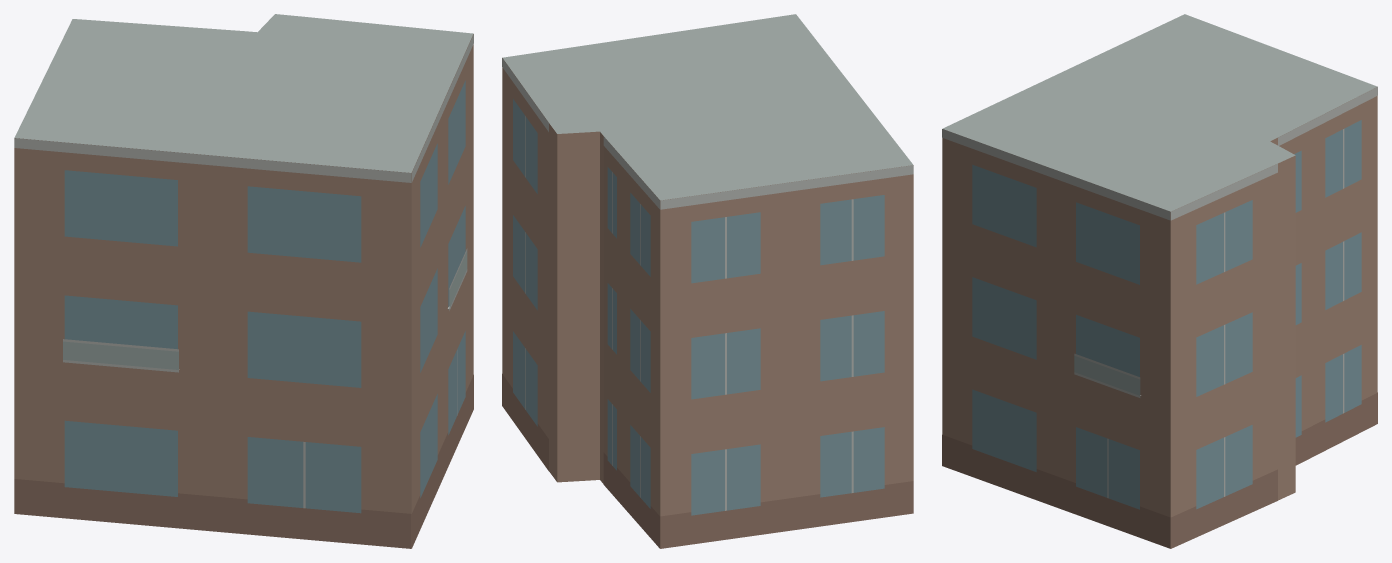
The model's file is survey-upis-32895524.glb.
3 renders of one model, left to right at view 1: azimuth 30°, elevation 25°; view 2: azimuth 150°, elevation 25°; view 3: azimuth 270°, elevation 25°, orthographic. The views are drawn at different scales.
Visible parts, largest first — view 1: survey-upis-32895524.tmp; view 2: survey-upis-32895524.tmp; view 3: survey-upis-32895524.tmp.
Boxes of the visible parts, <box> form: survey-upis-32895524.tmp: <box>14,14,473,548</box>; survey-upis-32895524.tmp: <box>502,14,913,548</box>; survey-upis-32895524.tmp: <box>942,14,1377,548</box>.
Size of the model in its own units: 11.51 by 9.15 by 10.72.
